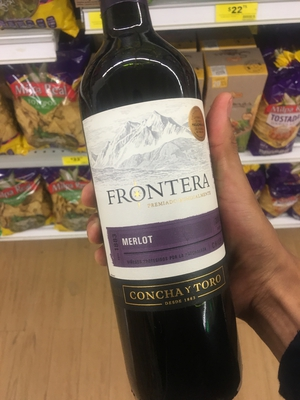frontera merlot: (76, 10, 227, 400)
